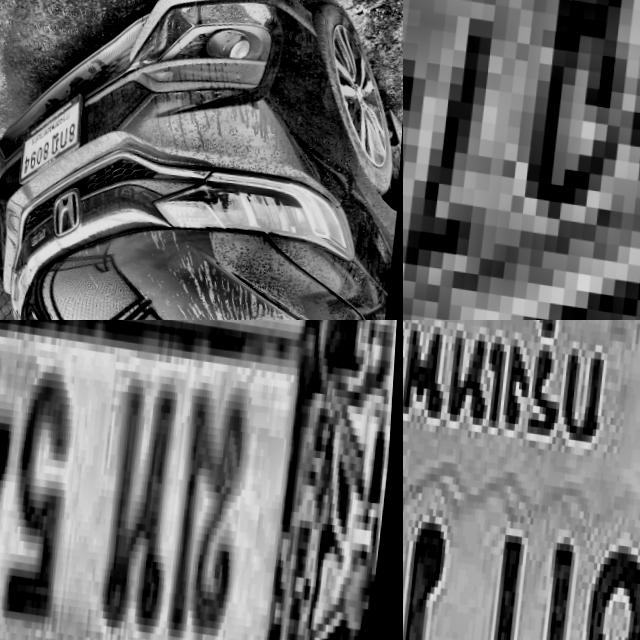license-plate: (0, 320, 403, 640), (403, 0, 640, 320), (403, 320, 640, 640), (18, 74, 92, 188)
